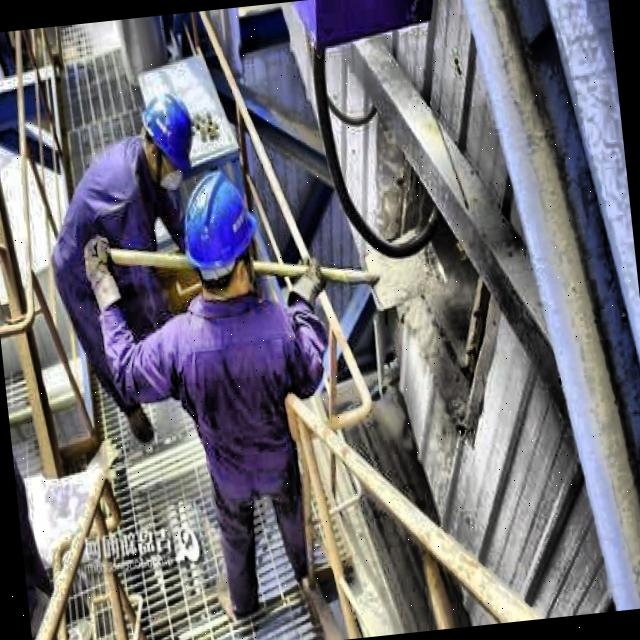helmet: (172, 158, 262, 302), (129, 76, 209, 202)
